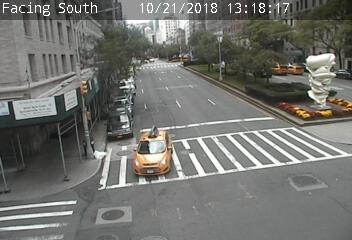car: (132, 129, 173, 175)
